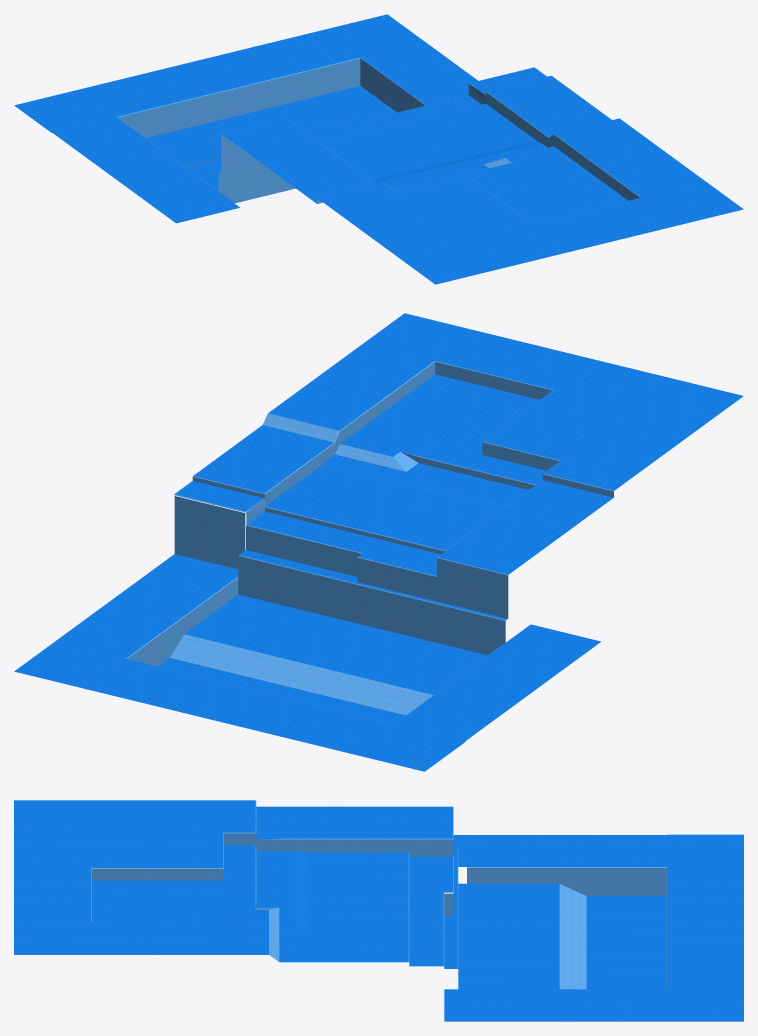
File: Water.obj
The picture shows the model from 3 angles, top to bottom: view 1: azimuth 30°, elevation 25°; view 2: azimuth 150°, elevation 25°; view 3: azimuth 270°, elevation 25°; orthographic projection. The views are drawn at different scales.
Size of the model in its own units: 9904 by 2355 by 16319.
Materials: 2 (2 with a texture image).
